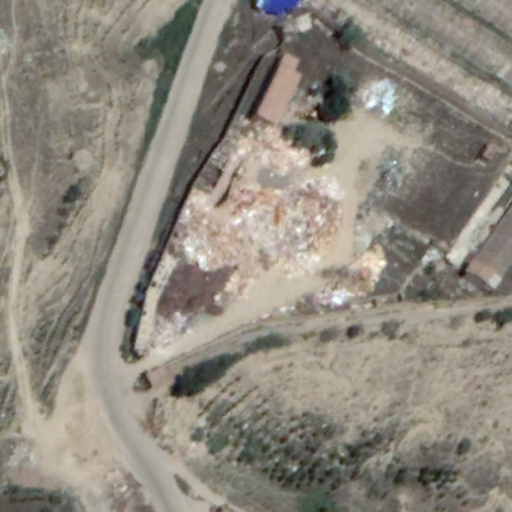msw: (171, 124, 341, 279)
